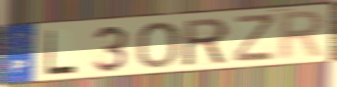3: (90, 23, 130, 74)
L: (44, 28, 78, 77)
O: (136, 20, 181, 70)
R: (276, 8, 328, 63), (182, 16, 231, 68)
Z: (232, 12, 277, 63)
